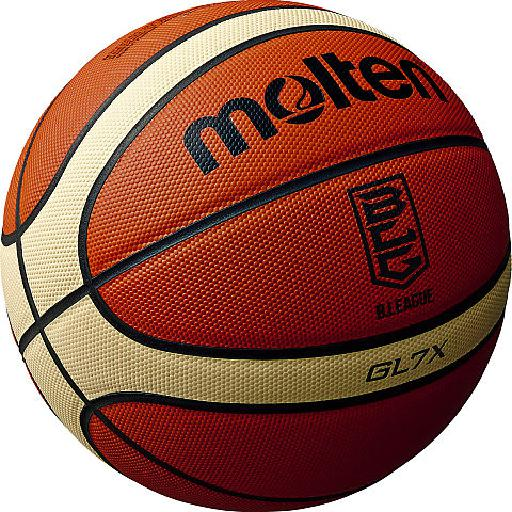ball: (1, 1, 512, 504)
